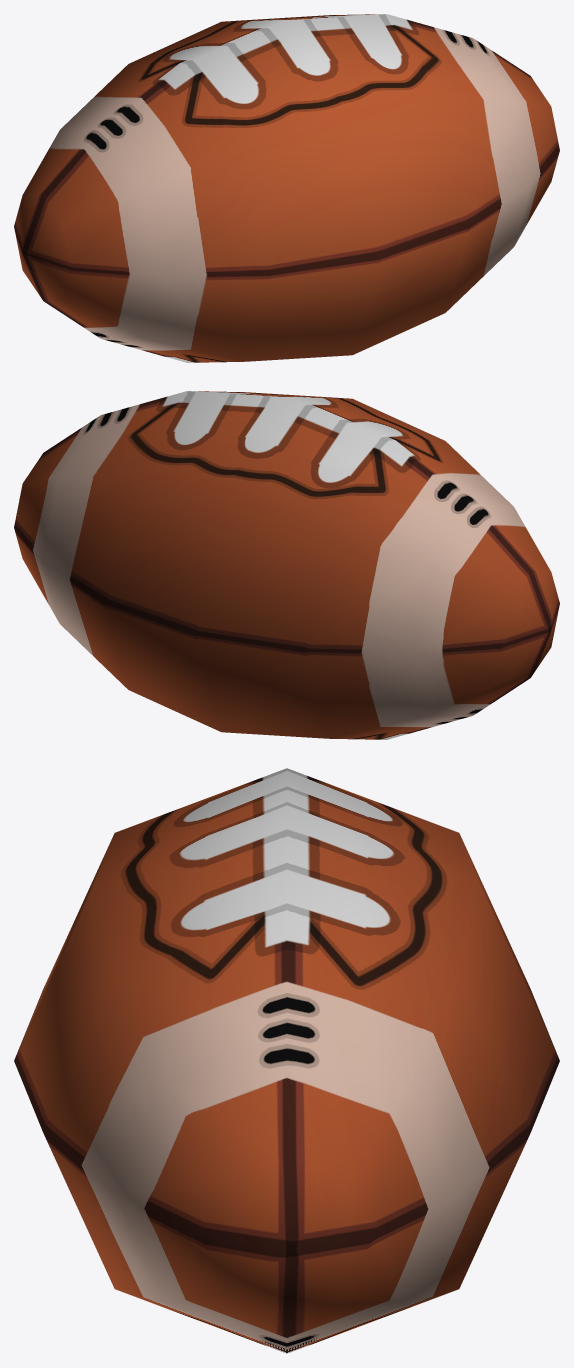
File: amerikan-topu.fbx
3 views of the same model, one above another, from view 1: azimuth 30°, elevation 25°; view 2: azimuth 150°, elevation 25°; view 3: azimuth 270°, elevation 25° (orthographic). The views are drawn at different scales.
Visible parts, largest first — view 1: amerikan-topu; view 2: amerikan-topu; view 3: amerikan-topu.
Part boxes in pixels (x1,y1,x2,y2): amerikan-topu: (14, 14, 559, 362); amerikan-topu: (14, 391, 559, 739); amerikan-topu: (14, 768, 559, 1353).
Size of the model in its own units: 3.13 by 1.9 by 1.9.
Materials: 1 (1 with a texture image).
